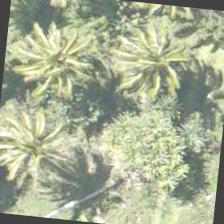Kelapa_Sawit: (114, 17, 214, 116), (12, 7, 111, 106), (0, 94, 78, 192)
